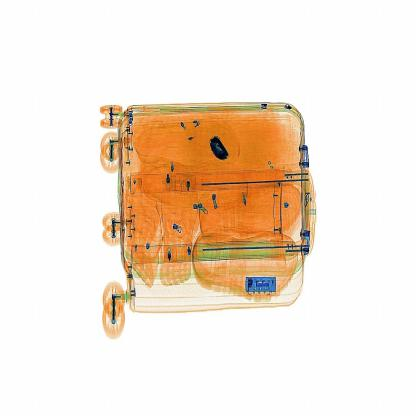scissors: (204, 130, 240, 177)
